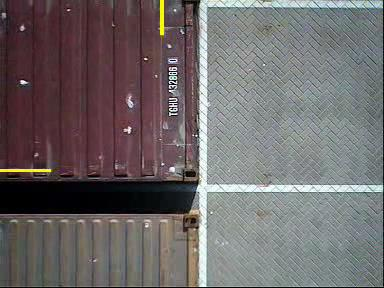groundmarker_2: (199, 61, 232, 130), (196, 239, 224, 287)
